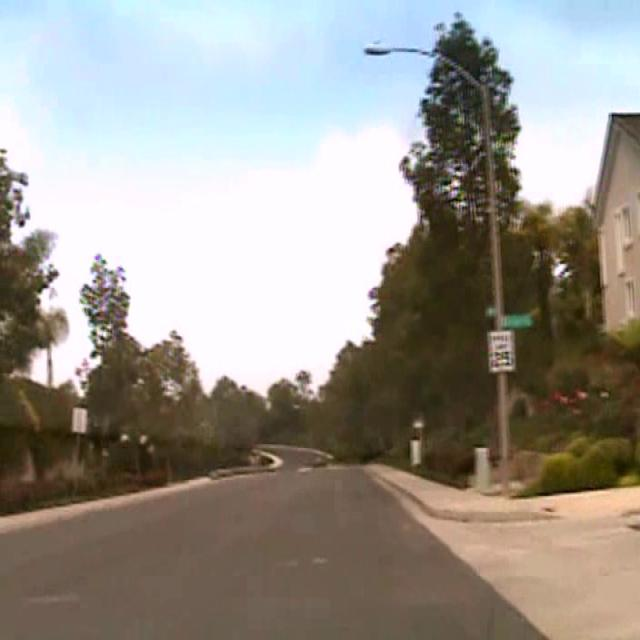speedLimit25: (487, 328, 515, 372)
